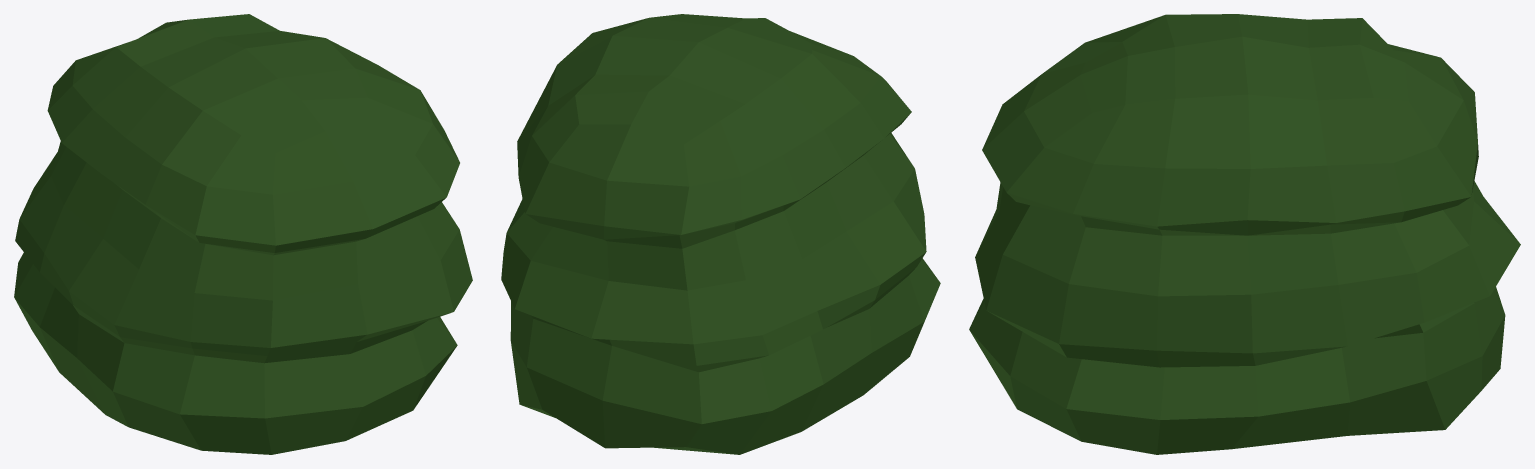
File: Bush_1.glb
The picture shows the model from 3 angles, left to right: view 1: azimuth 30°, elevation 25°; view 2: azimuth 150°, elevation 25°; view 3: azimuth 270°, elevation 25°; orthographic projection. The views are drawn at different scales.
Parts seen in each view (by area): view 1: Bush_1; view 2: Bush_1; view 3: Bush_1.
Boxes of the visible parts, x1,y1,x2,y2 form: Bush_1: (14,14,472,454); Bush_1: (501,14,940,454); Bush_1: (969,14,1520,454).
Bounding box in the file's own units: 133 × 124 × 169.
